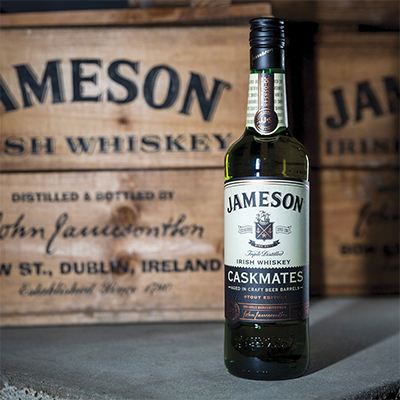Jameson: (215, 7, 319, 388)
